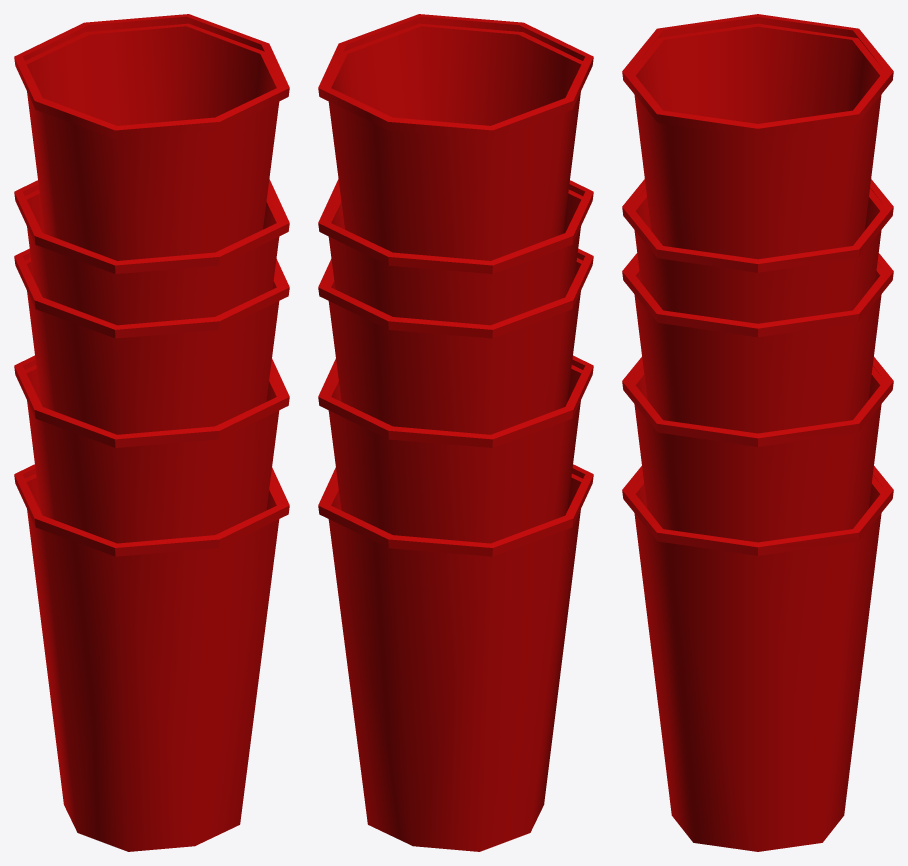
The model's file is Plastic_Cups.glb.
3 views of the same model, side by side, from view 1: azimuth 30°, elevation 25°; view 2: azimuth 150°, elevation 25°; view 3: azimuth 270°, elevation 25° (orthographic).
Visible parts, largest first — view 1: sushi_bar_cups_geo; view 2: sushi_bar_cups_geo; view 3: sushi_bar_cups_geo.
Part boxes in pixels (x1,y1,x2,y2): sushi_bar_cups_geo: [14, 14, 289, 851]; sushi_bar_cups_geo: [318, 14, 593, 851]; sushi_bar_cups_geo: [622, 14, 893, 851].
Size of the model in its own units: 0.1386 by 0.4192 by 0.1386.
Materials: 1 (1 with a texture image).
